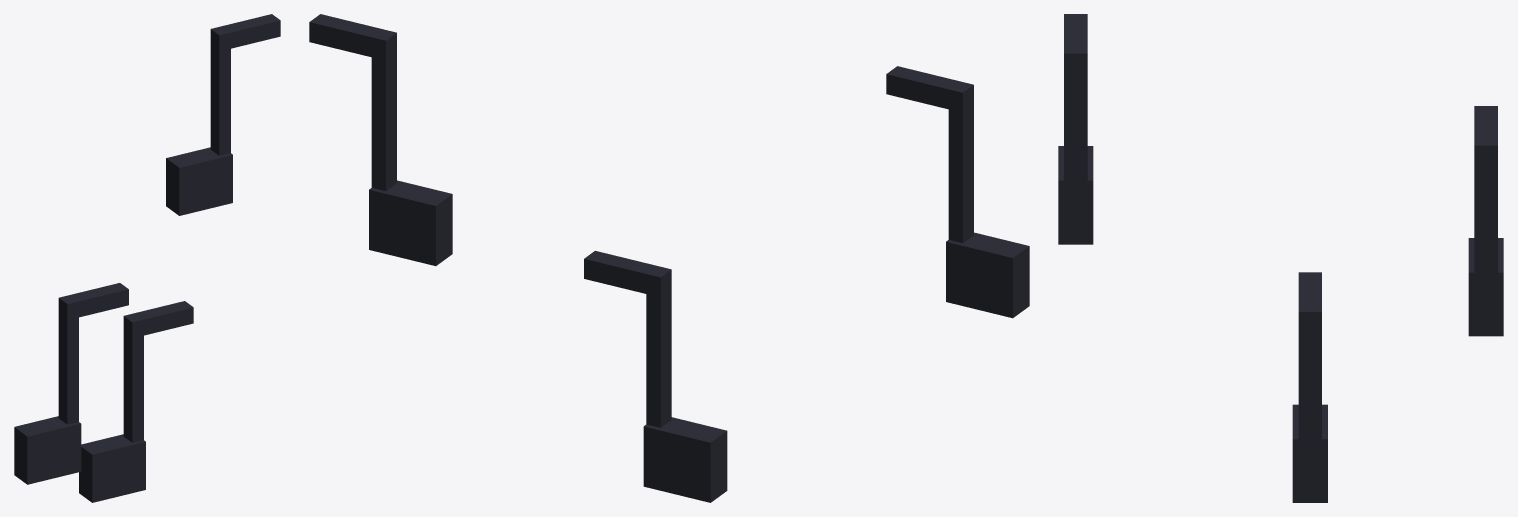
Rendered from fx_notes.glb.
3 views of the same model, side by side, from view 1: azimuth 30°, elevation 25°; view 2: azimuth 150°, elevation 25°; view 3: azimuth 270°, elevation 25° (orthographic). The views are drawn at different scales.
Parts seen in each view (by area): view 1: fx_notes; view 2: fx_notes; view 3: fx_notes.
Part boxes in pixels (x1,y1,x2,y2): fx_notes: (14,14,280,502); fx_notes: (309,14,1029,502); fx_notes: (1058,14,1503,502).
Bounding box in the file's own units: 0.535 × 0.46 × 0.38.
Materials: 1 (1 with a texture image).
